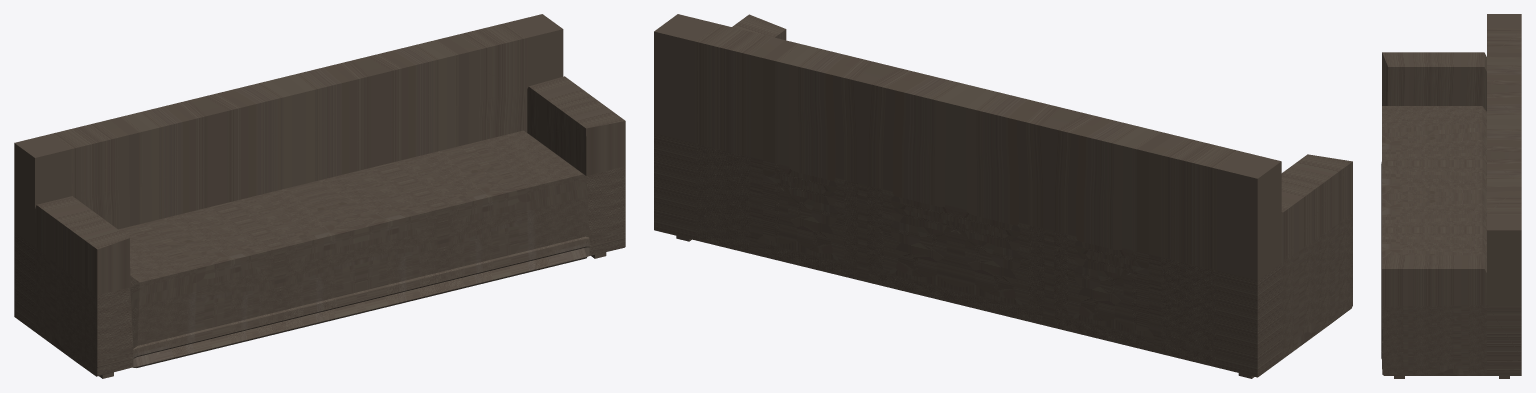
The model's file is fbx_Sofa_Blocado.fbx.
The picture shows the model from 3 angles, left to right: view 1: azimuth 30°, elevation 25°; view 2: azimuth 150°, elevation 25°; view 3: azimuth 270°, elevation 25°; orthographic projection. The views are drawn at different scales.
Visible parts, largest first — view 1: Sofa1; view 2: Sofa1; view 3: Sofa1.
Part boxes in pixels (x1,y1,x2,y2): Sofa1: (14,14,625,378); Sofa1: (654,14,1352,378); Sofa1: (1381,14,1521,378).
Size of the model in its own units: 293 by 97.22 by 80.56.
1 material, 1 textured.
